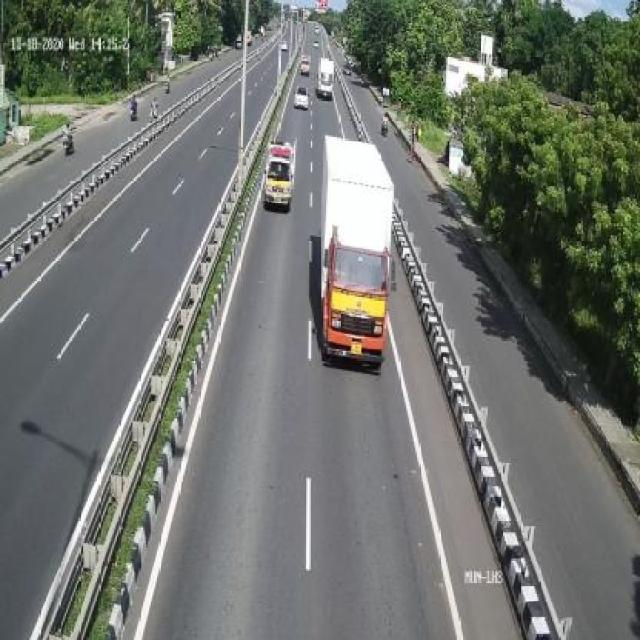car: (264, 130, 298, 216), (317, 52, 335, 103)
